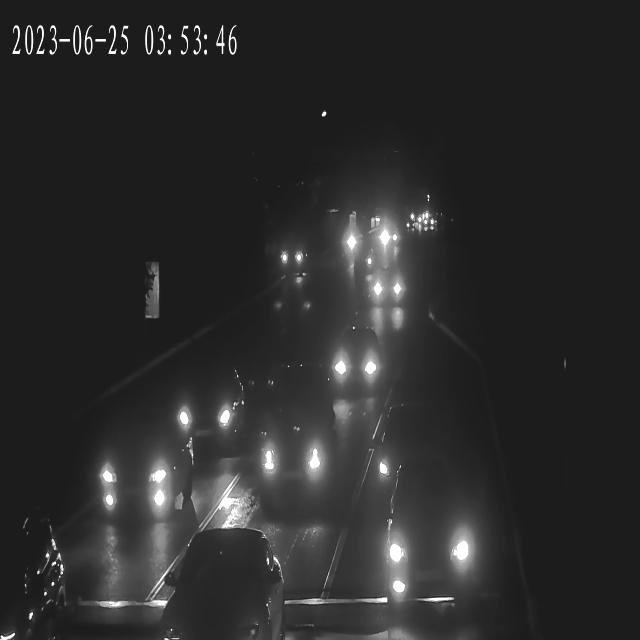Car: (162, 526, 284, 638), (381, 476, 481, 604), (87, 426, 193, 532), (250, 404, 338, 502), (4, 512, 72, 638), (163, 371, 246, 452), (320, 332, 384, 394), (366, 268, 408, 305), (275, 243, 306, 273), (348, 248, 377, 276), (376, 228, 402, 249), (338, 231, 362, 252), (370, 214, 389, 228), (407, 214, 423, 227), (421, 217, 436, 230), (406, 217, 421, 230)
